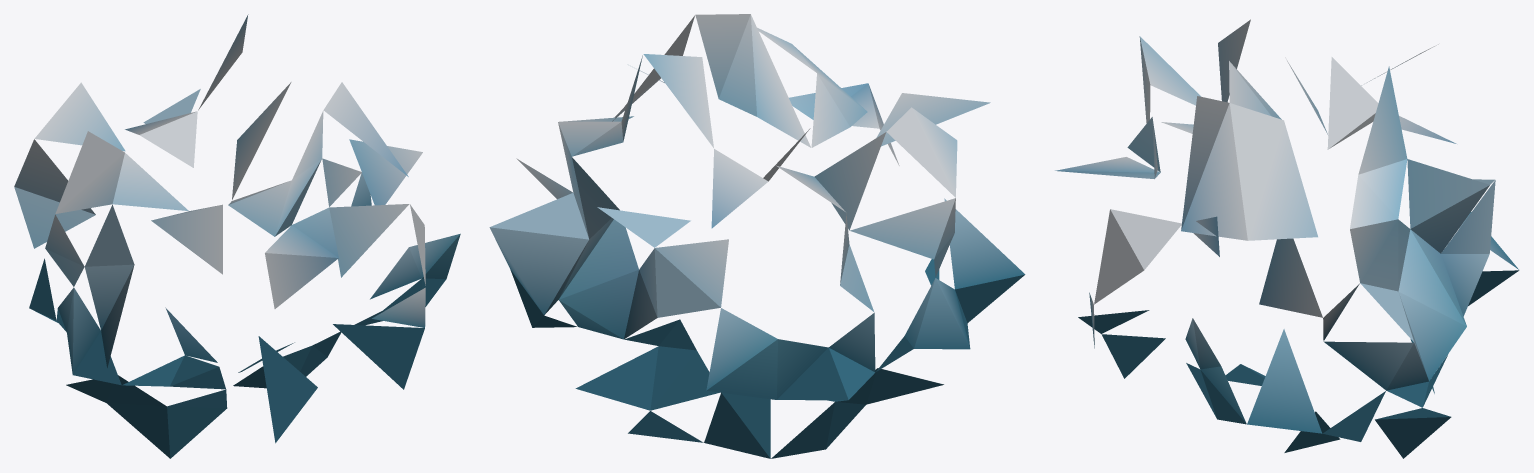
The model's file is frost_iceberg_a_lod1.glb.
3 views of the same model, side by side, from view 1: azimuth 30°, elevation 25°; view 2: azimuth 150°, elevation 25°; view 3: azimuth 270°, elevation 25° (orthographic). The views are drawn at different scales.
Parts seen in each view (by area): view 1: geometry_0; view 2: geometry_0; view 3: geometry_0.
Part boxes in pixels (x1,y1,x2,y2): geometry_0: [14, 14, 460, 458]; geometry_0: [489, 14, 1025, 458]; geometry_0: [1055, 19, 1519, 458].
Bounding box in the file's own units: 49.57 × 42.71 × 45.26.
